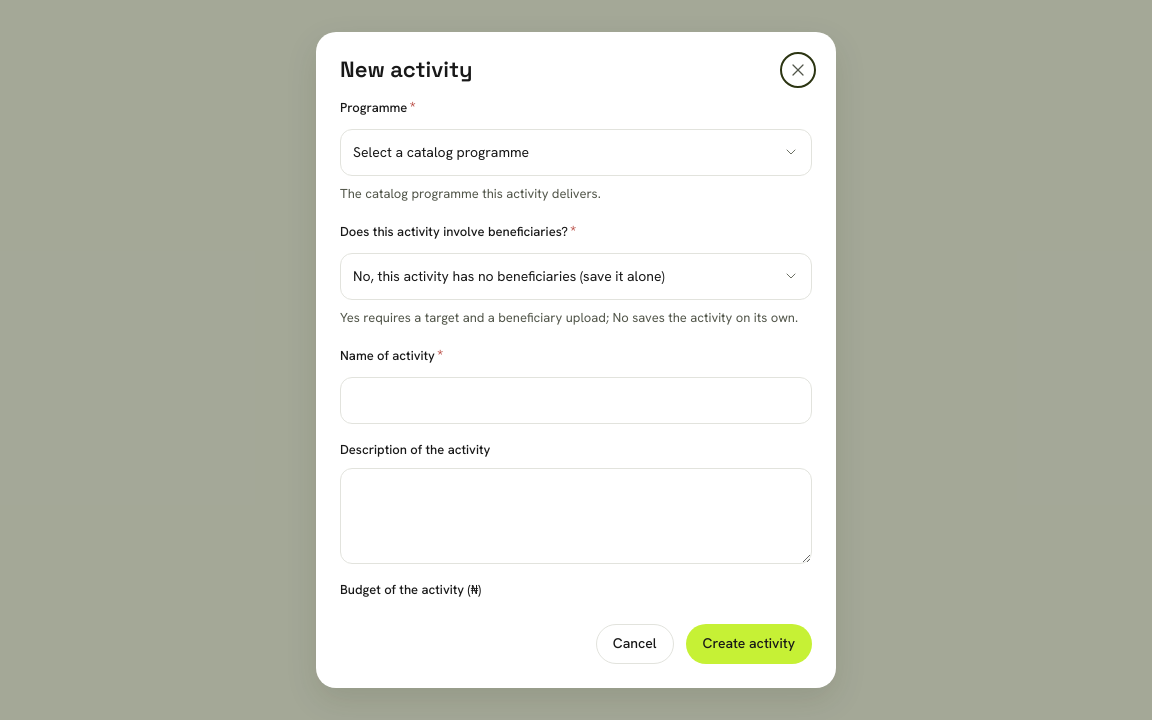
Test case: ActivityFormModal › requires a target before advancing when it involves beneficiaries
The width and height of the screenshot is (1152, 720).
Select "Cash Transfer" in the dropdown labelled "Programme". click: (576,152)
box: 340,129 -> 812,176
(page scrolled)
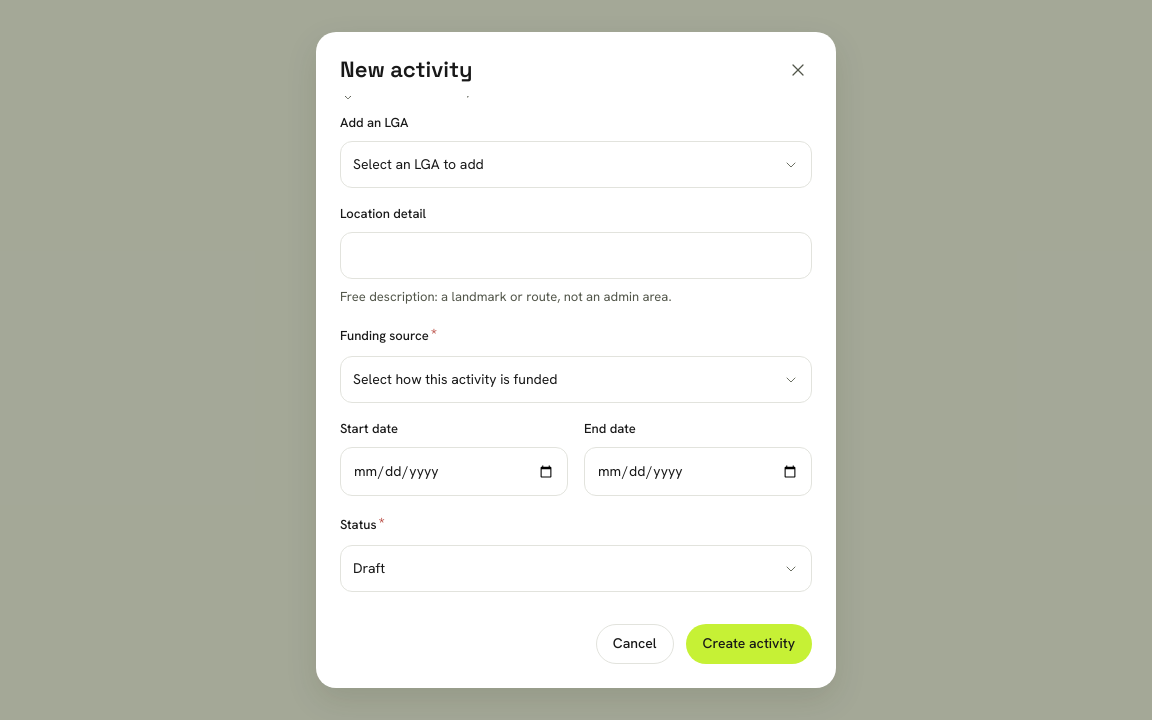
Select "Government funded" in the dropdown labelled "Funding source". click: (576,380)
box: 340,356 -> 812,403
(page scrolled)
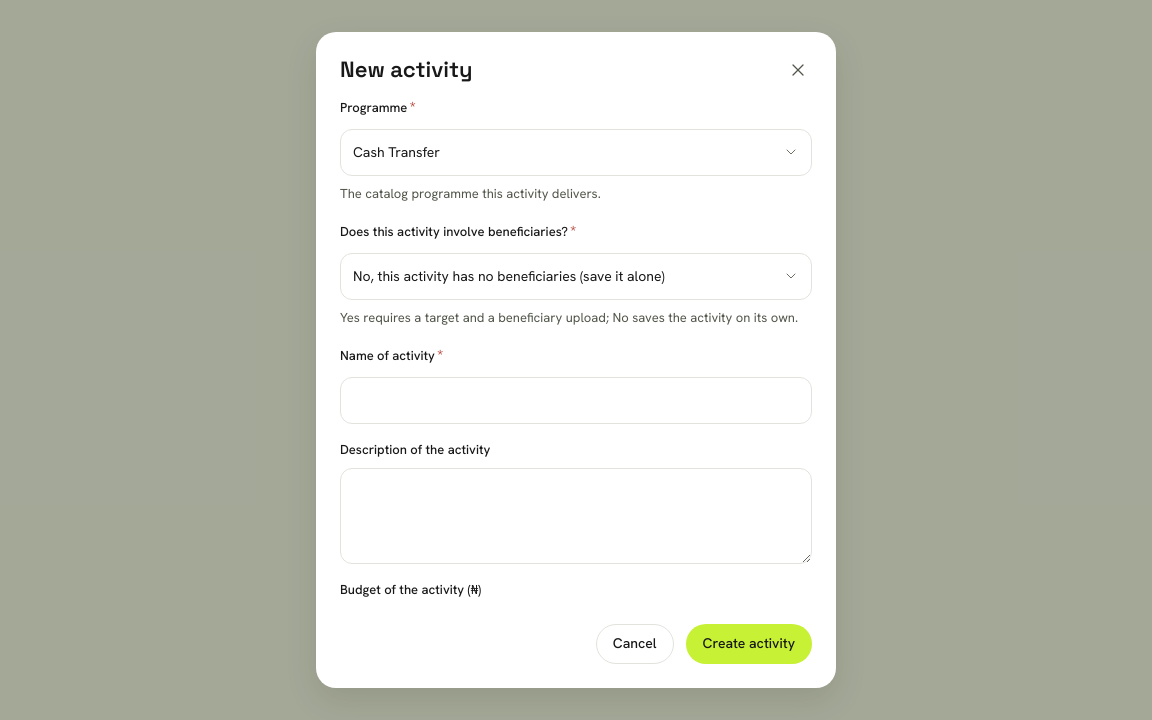
Select "Yes, onboard or serve beneficiaries" in the dropdown labelled "Does this activity involve beneficiaries?". click: (576,276)
box: 340,253 -> 812,300
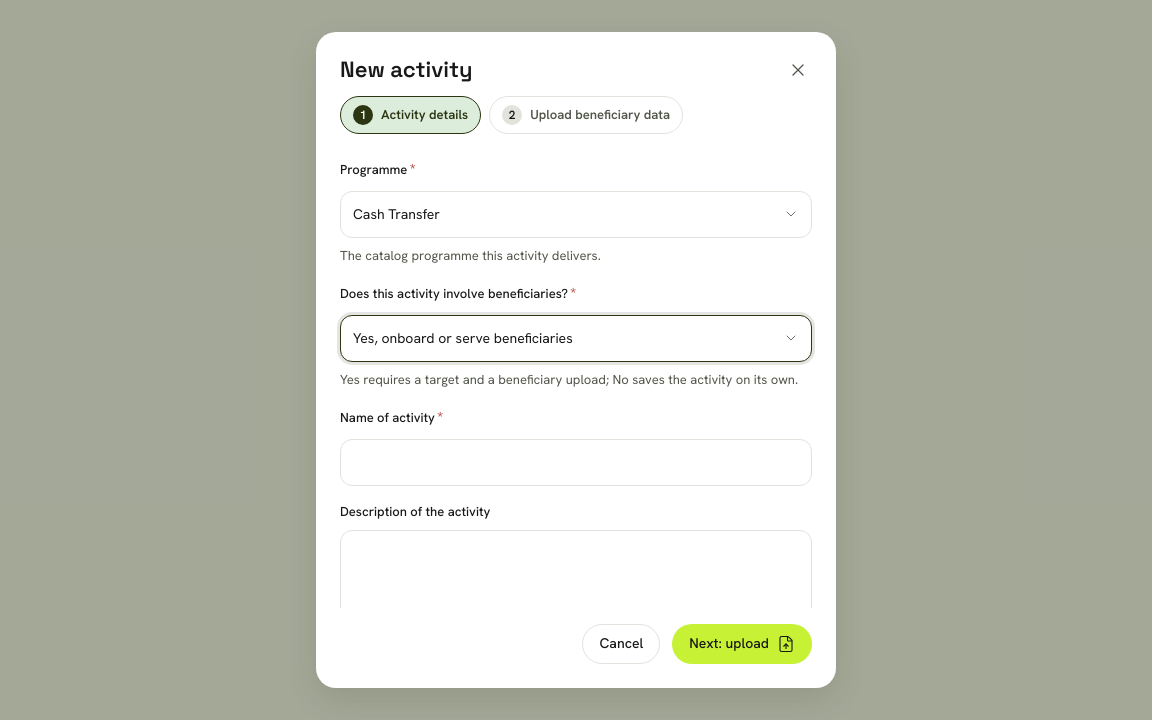
Type "Q1 Round" into the field labelled "Name of activity". click: (576,462)
box: 340,439 -> 812,486
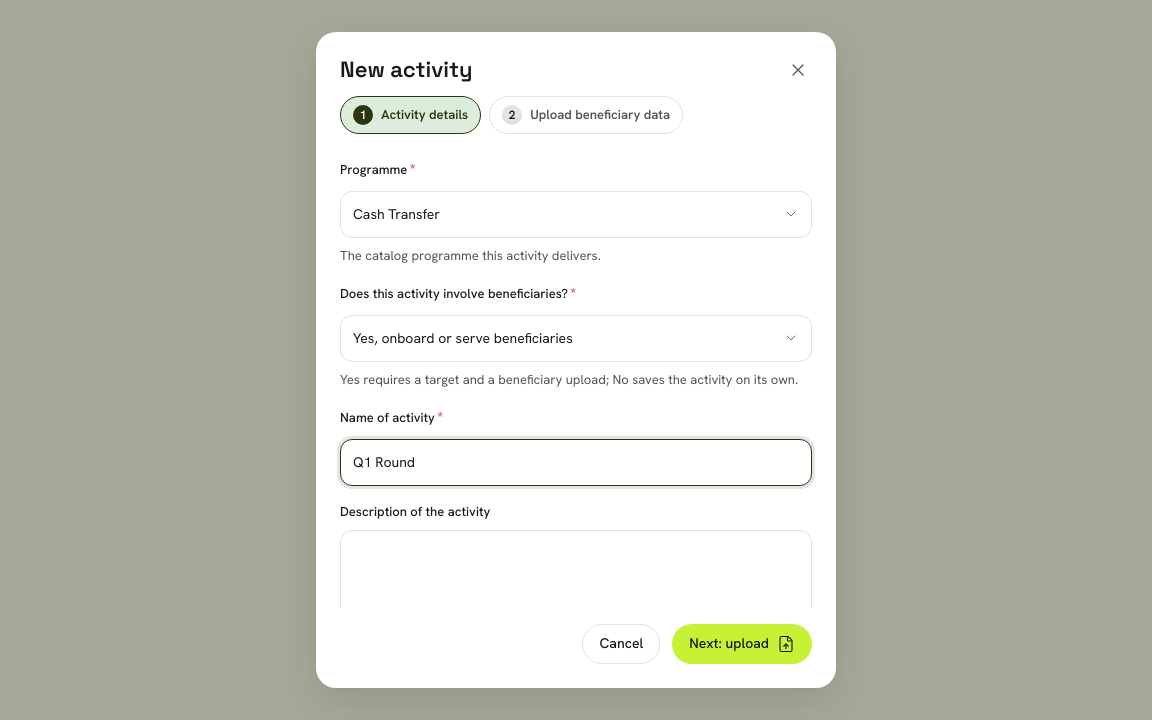
Click the button "Next: upload". click: (742,644)
box: 672,624 -> 812,664
(page scrolled)
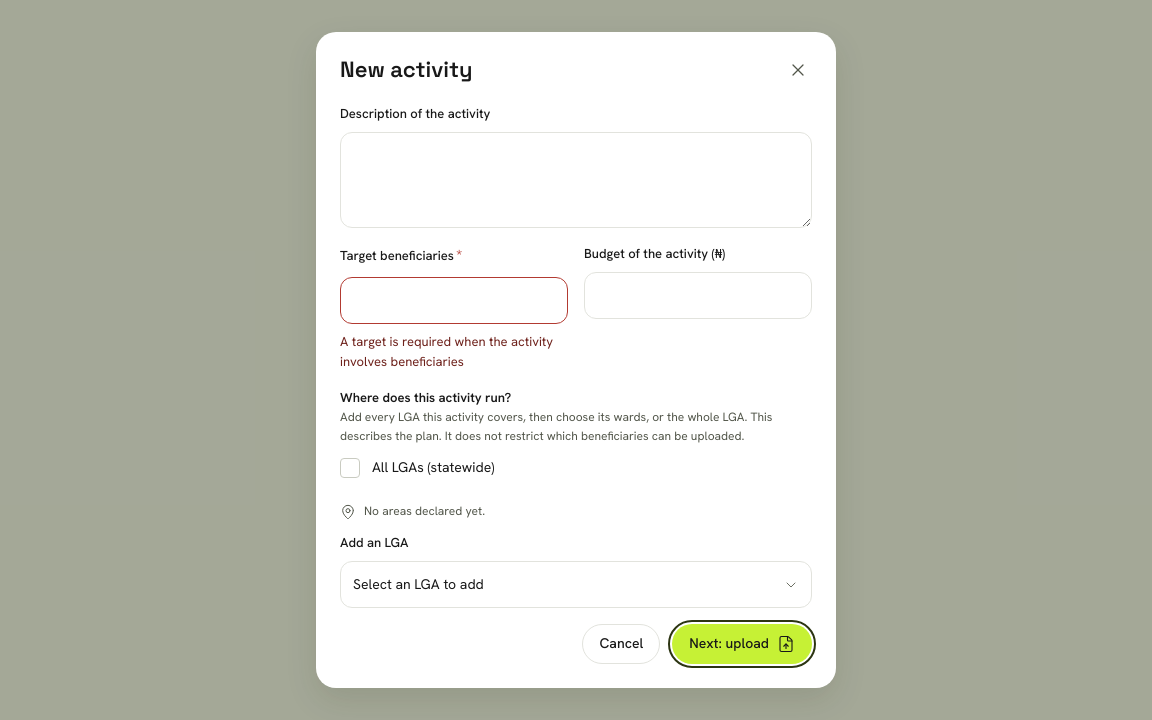
Expected: the text "A target is required when the activity involves beneficiaries" is shown, 340,332 -> 568,372
